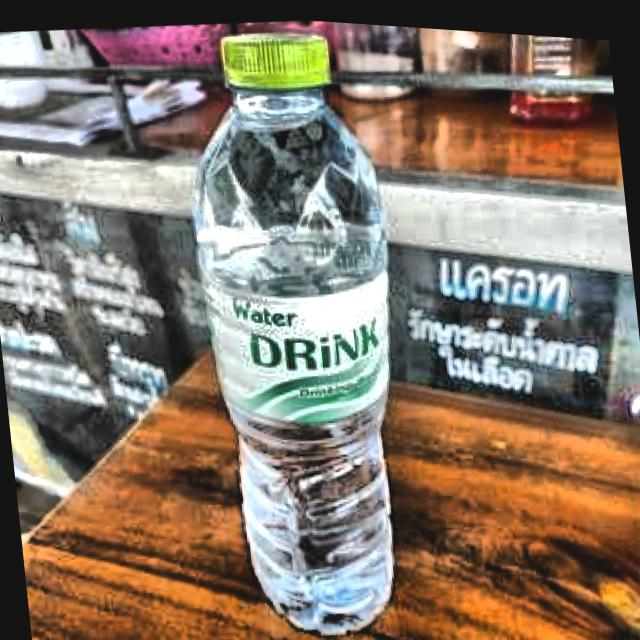Bottles: (170, 9, 447, 640)
